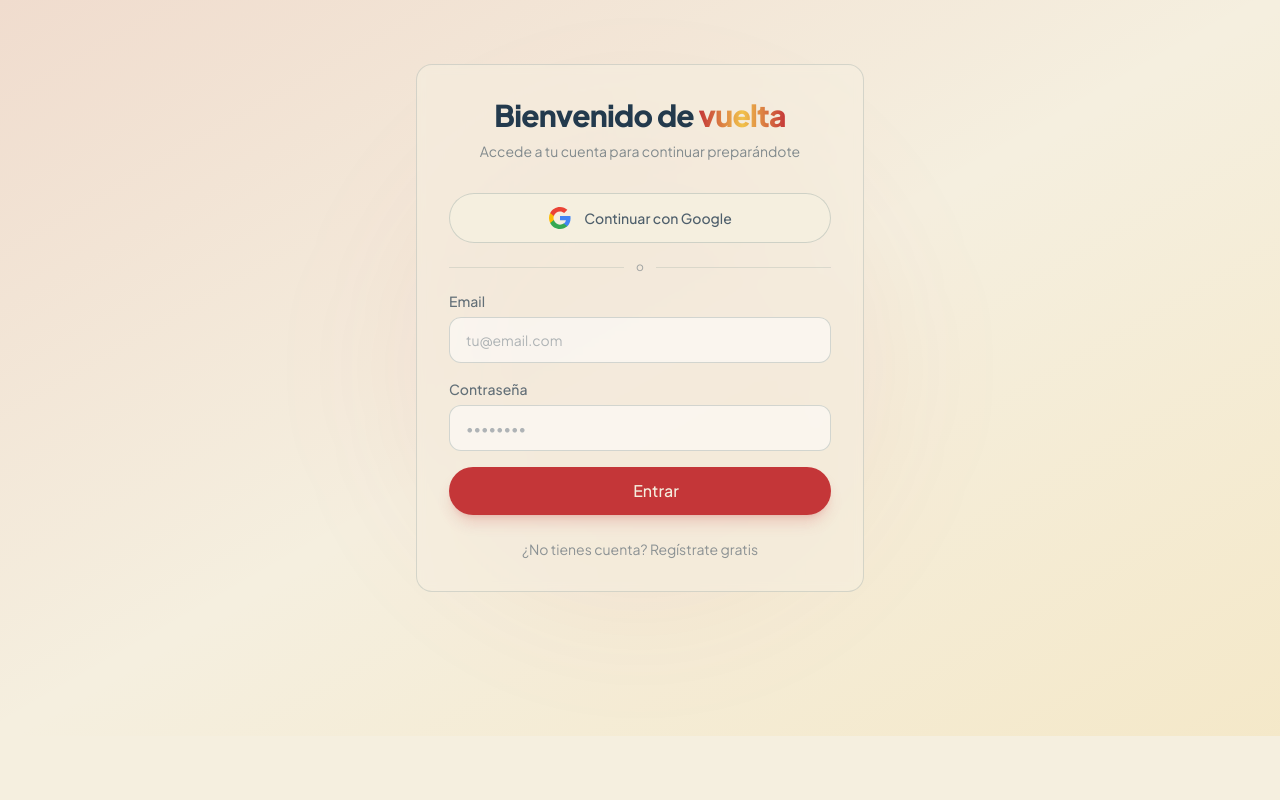
Test: Login component › shows validation error when email is empty
Click the button "Entrar" at (640, 491), box [449, 467, 831, 515]
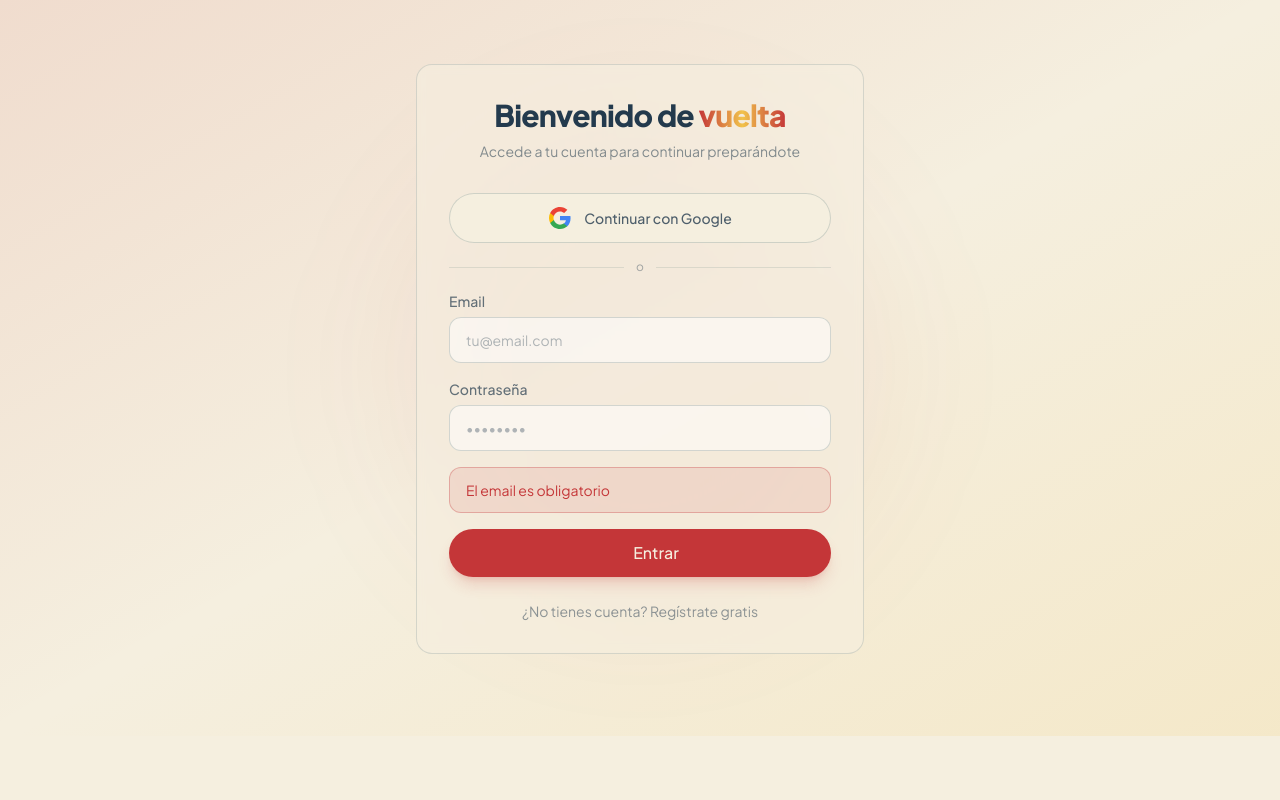
Expected: the text "El email es obligatorio" is shown, [449, 467, 831, 513]
